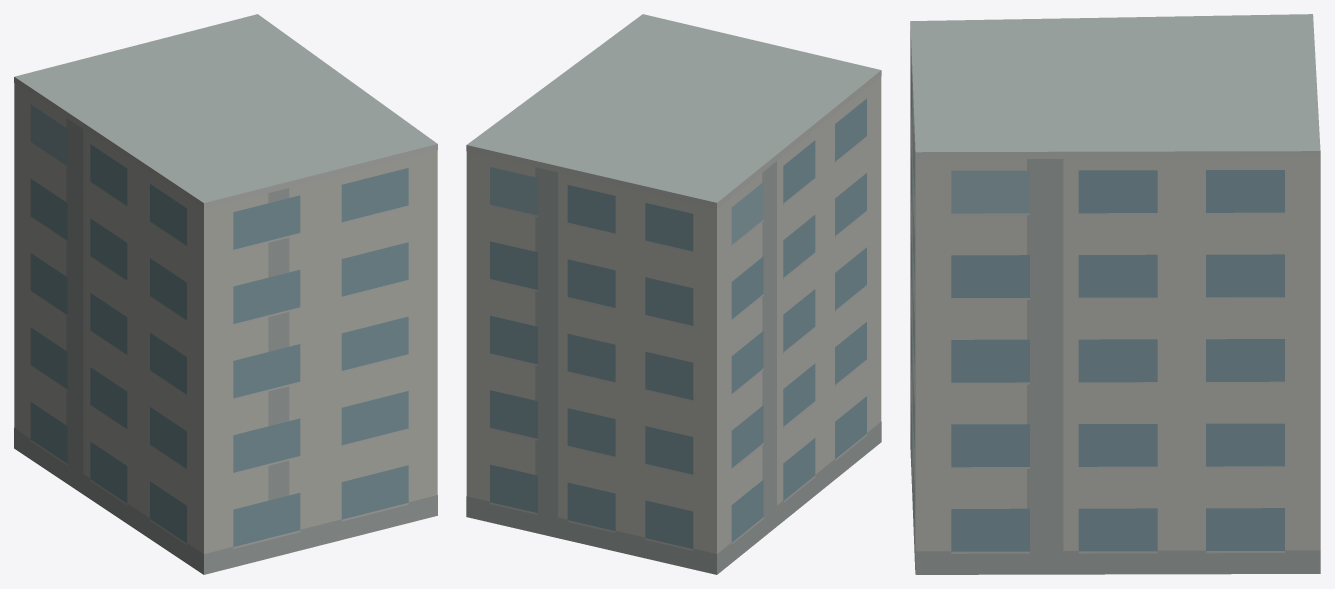
Rendered from survey-upis-32974984.glb.
3 views of the same model, side by side, from view 1: azimuth 30°, elevation 25°; view 2: azimuth 150°, elevation 25°; view 3: azimuth 270°, elevation 25° (orthographic). The views are drawn at different scales.
Visible parts, largest first — view 1: survey-upis-32974984.tmp; view 2: survey-upis-32974984.tmp; view 3: survey-upis-32974984.tmp.
Part boxes in pixels (x1,y1,x2,y2): survey-upis-32974984.tmp: [14, 14, 437, 574]; survey-upis-32974984.tmp: [466, 14, 881, 574]; survey-upis-32974984.tmp: [910, 14, 1320, 574].
Size of the model in its own units: 10.03 by 14.3 by 12.58.
